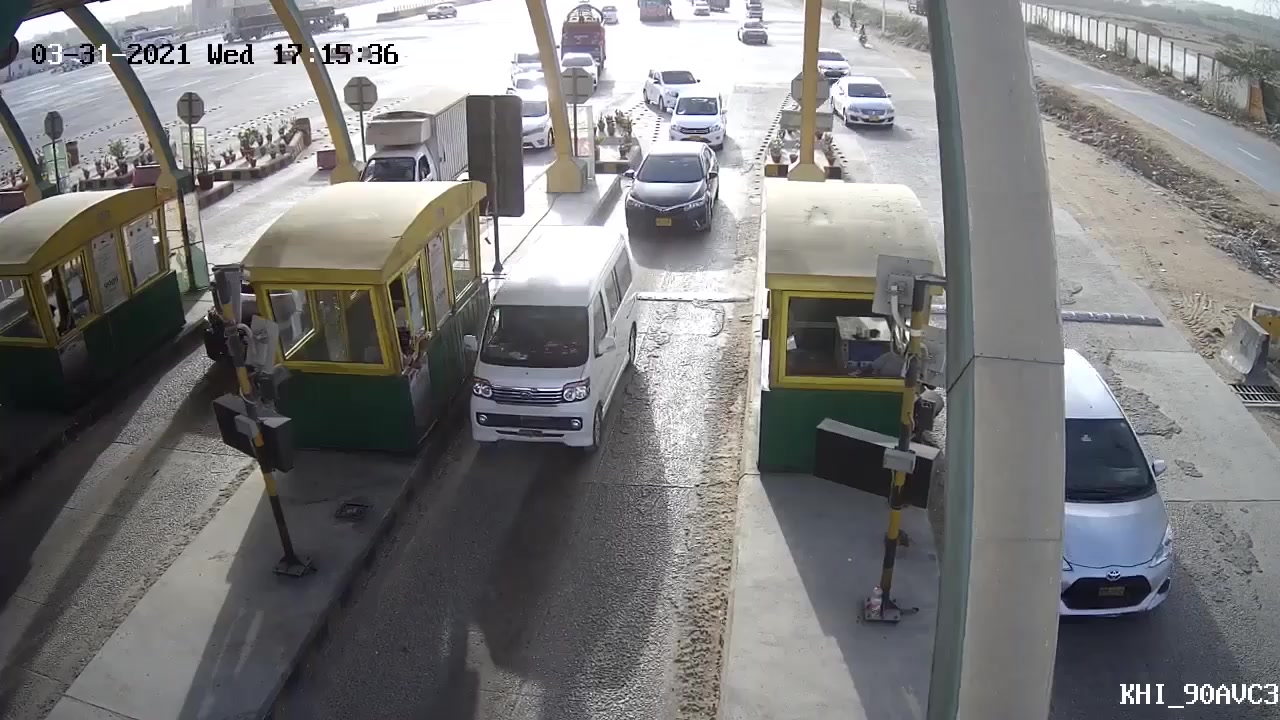F1: (456, 224, 650, 466), (604, 136, 722, 240)
